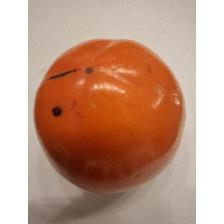Kaki: (32, 34, 188, 198)
